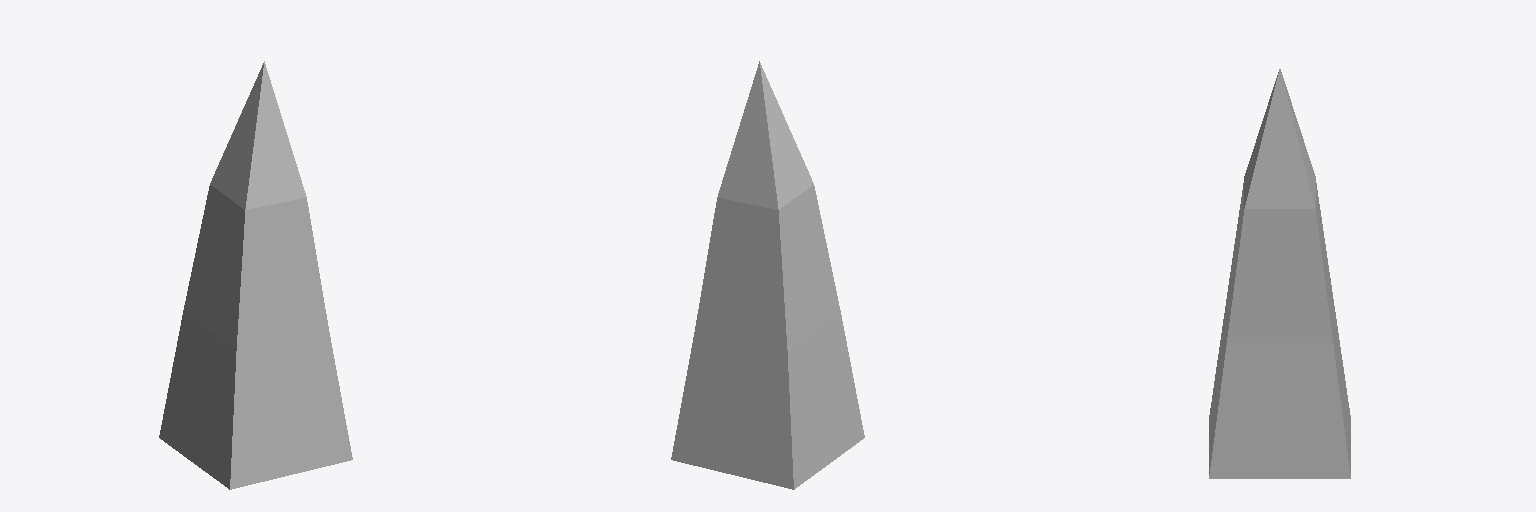
File: skeletal_000002.obj
3 renders of one model, left to right at view 1: azimuth 30°, elevation 25°; view 2: azimuth 150°, elevation 25°; view 3: azimuth 270°, elevation 25°, orthographic.
Visible parts, largest first — view 1: Cube; view 2: Cube; view 3: Cube.
Boxes of the visible parts, <box> form: Cube: <box>159,61,352,489</box>; Cube: <box>671,61,864,489</box>; Cube: <box>1209,69,1350,478</box>.
Bounding box in the file's own units: 2 × 6 × 2.